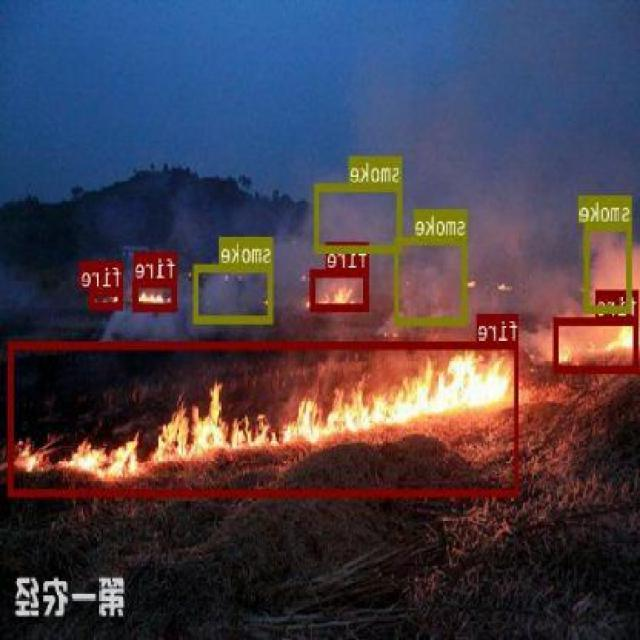Fire: (10, 340, 521, 494), (555, 316, 639, 372), (310, 269, 370, 311), (134, 279, 178, 310), (90, 288, 124, 308)
Smoke: (483, 204, 561, 294), (395, 234, 468, 324), (316, 183, 402, 252), (196, 262, 274, 322), (585, 222, 633, 312)
